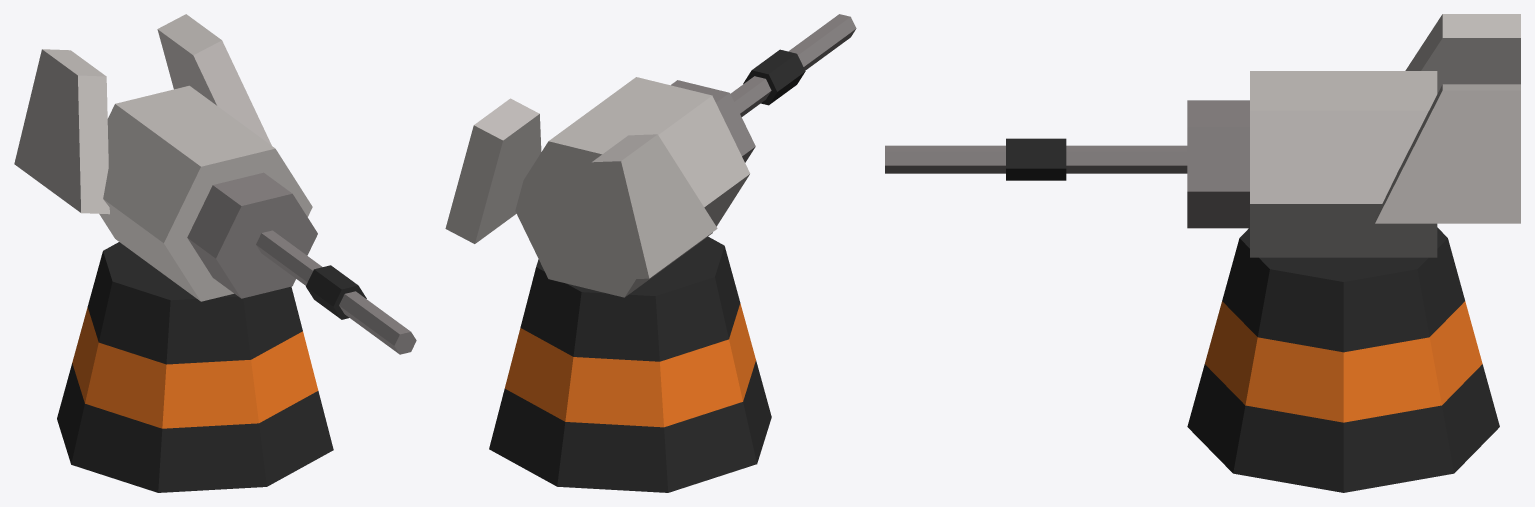
The model's file is scifi-scifi-turret-head-laser-small.glb.
3 views of the same model, side by side, from view 1: azimuth 30°, elevation 25°; view 2: azimuth 150°, elevation 25°; view 3: azimuth 270°, elevation 25° (orthographic). The views are drawn at different scales.
Visible parts, largest first — view 1: scifi-turret-head-laser-small; view 2: scifi-turret-head-laser-small; view 3: scifi-turret-head-laser-small.
Part boxes in pixels (<box>): scifi-turret-head-laser-small: <box>14,14,416,492</box>; scifi-turret-head-laser-small: <box>445,14,856,492</box>; scifi-turret-head-laser-small: <box>885,14,1520,492</box>.
Bounding box in the file's own units: 0.6 × 0.7931 × 1.22.
